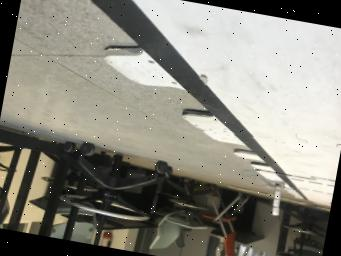street: (133, 0, 341, 179), (133, 0, 341, 179), (133, 0, 341, 179), (133, 0, 341, 179), (133, 0, 341, 179), (133, 0, 341, 179)
